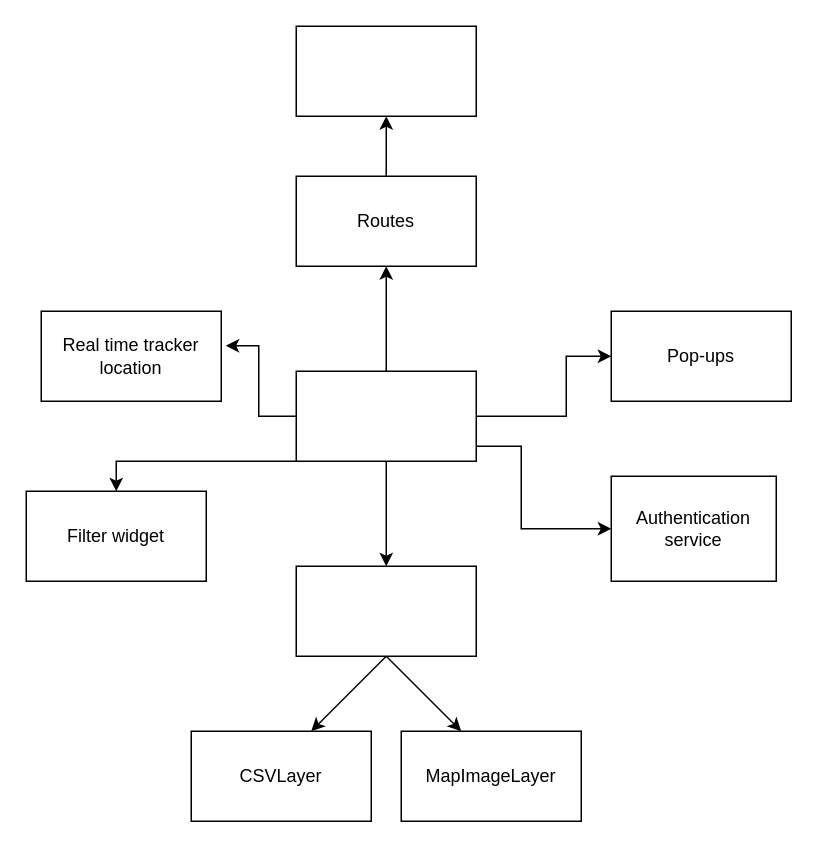
This 818x848 diagram has some shape labels left out. The centre of each missing label's shape, as x and y in pixels:
Bucharest map: (x=385, y=610)
Directions widget: (x=385, y=70)
Web application: (x=385, y=415)
